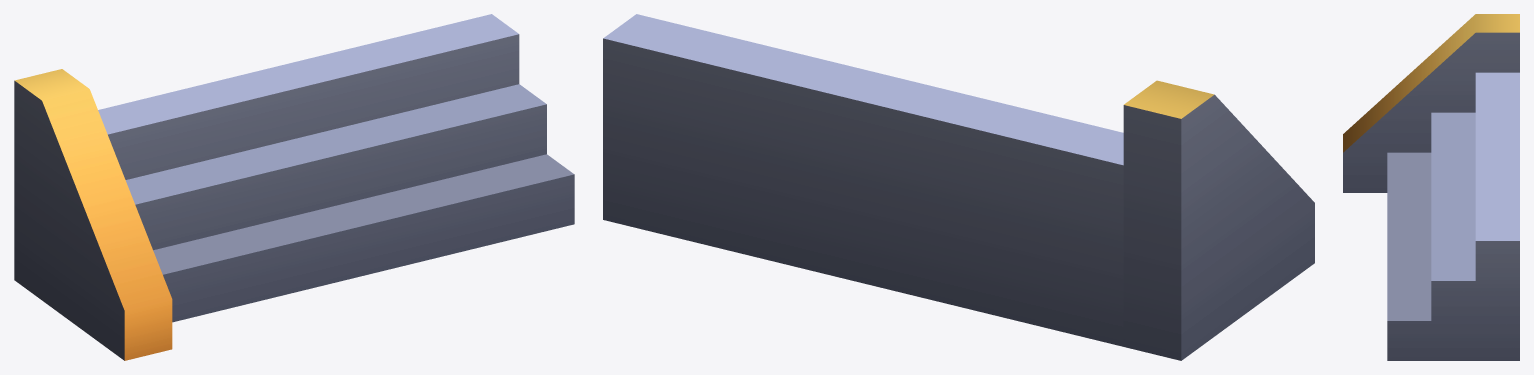
File: kenney-space-station-stairs-small-edge.glb
3 views of the same model, side by side, from view 1: azimuth 30°, elevation 25°; view 2: azimuth 150°, elevation 25°; view 3: azimuth 270°, elevation 25° (orthographic). The views are drawn at different scales.
Parts seen in each view (by area): view 1: stairs-small-edge; view 2: stairs-small-edge; view 3: stairs-small-edge.
Part boxes in pixels (left/top/right/bottom): stairs-small-edge: left=14, top=14, right=574, bottom=360; stairs-small-edge: left=603, top=14, right=1314, bottom=360; stairs-small-edge: left=1343, top=14, right=1519, bottom=360.
Bounding box in the file's own units: 1 × 0.3999 × 0.3999.
Materials: 1 (1 with a texture image).
